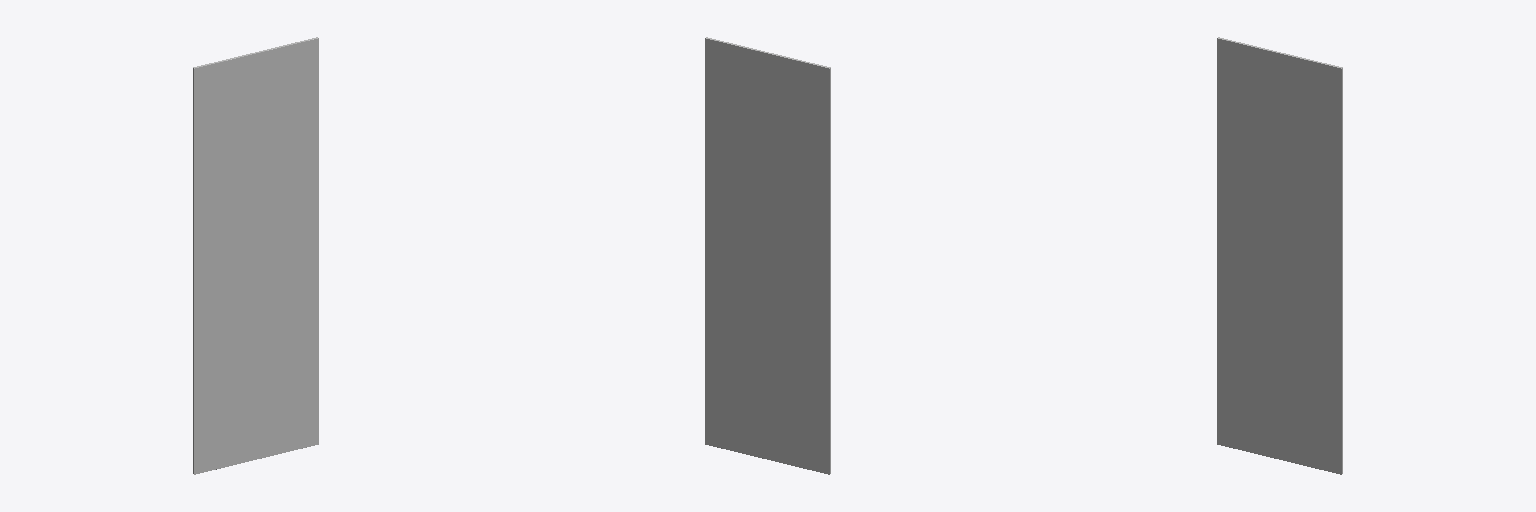
Rendered from B07GFW9GFX_part_4.obj.
The picture shows the model from 3 angles: view 1: azimuth 30°, elevation 25°; view 2: azimuth 150°, elevation 25°; view 3: azimuth 330°, elevation 25°; orthographic projection.
Bounding box in the file's own units: 0.3644 × 1.13 × 0.0074.